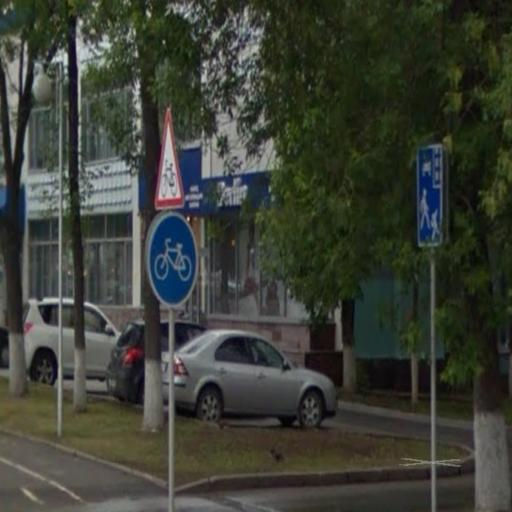traffic_sign: (147, 213, 201, 309), (154, 104, 188, 211), (417, 141, 446, 252)
